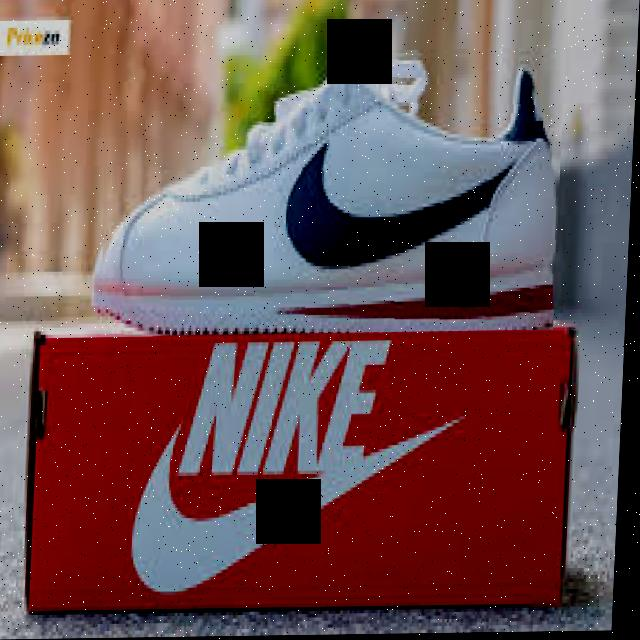shoe: (97, 46, 567, 337)
